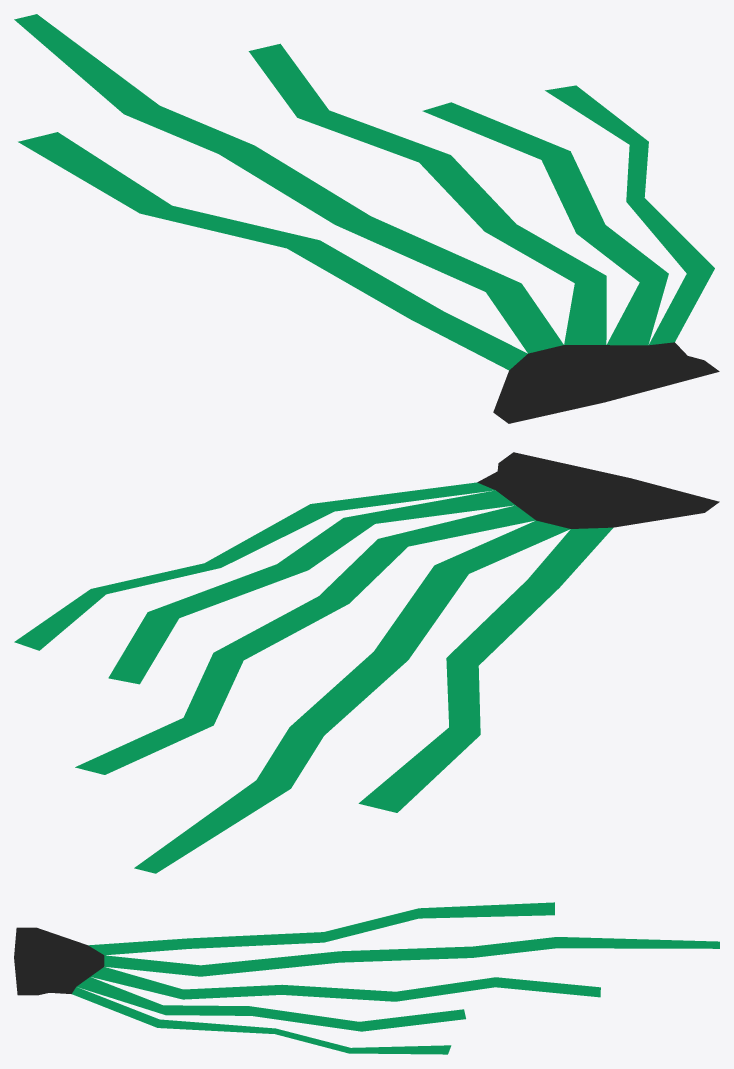
Rendered from plant2.obj.
3 renders of one model, top to bottom at view 1: azimuth 30°, elevation 25°; view 2: azimuth 150°, elevation 25°; view 3: azimuth 270°, elevation 25°, orthographic. The views are drawn at different scales.
Visible parts, largest first — view 1: Plane; view 2: Plane; view 3: Plane.
Boxes of the visible parts, box(x1,y1,x2,y2) form: Plane: box(14, 14, 719, 423); Plane: box(14, 452, 719, 873); Plane: box(14, 902, 719, 1054).
Size of the model in its own units: 2.04 by 0 by 4.
Materials: 1 (1 with a texture image).
